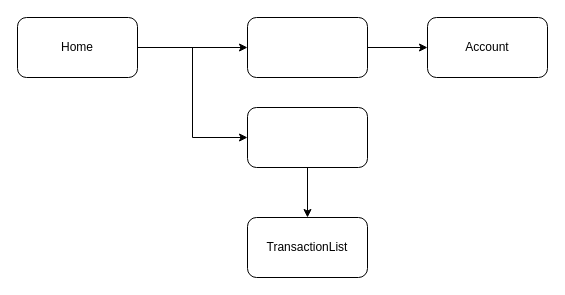
This 565x295 diagram has some shape labels left out. The centre of each missing label's shape, as x and y in pixels:
"AccountList" belongs at pixel 307 137.
"Menu" belongs at pixel 307 47.
